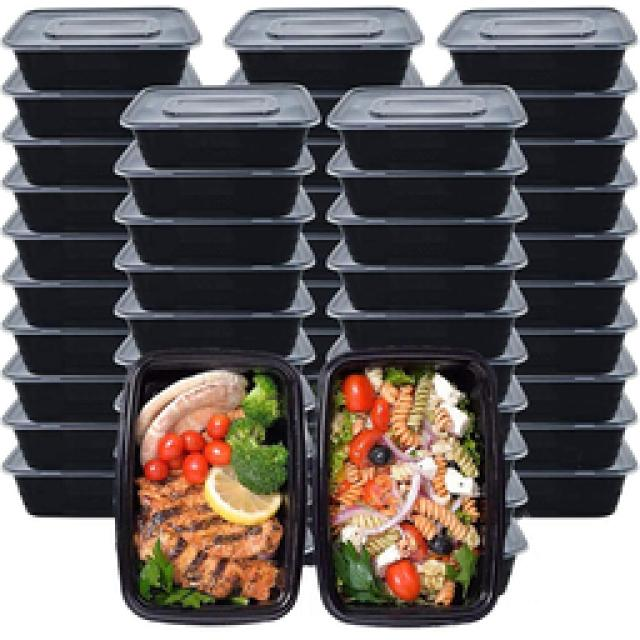plastik_botol: (16, 5, 514, 607), (122, 85, 318, 165), (329, 239, 528, 308), (11, 16, 199, 84), (3, 368, 124, 424)
sisa_makanan: (143, 369, 268, 612), (344, 373, 467, 596)
